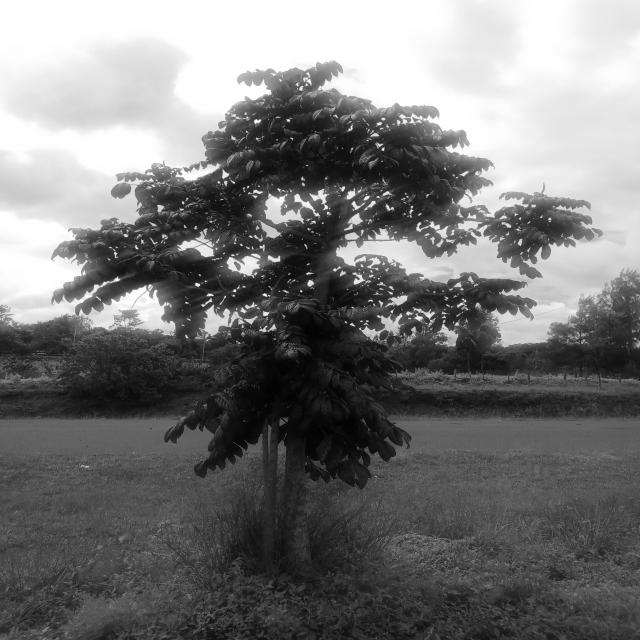Polyscias Kikuyensis: (42, 24, 596, 624)
